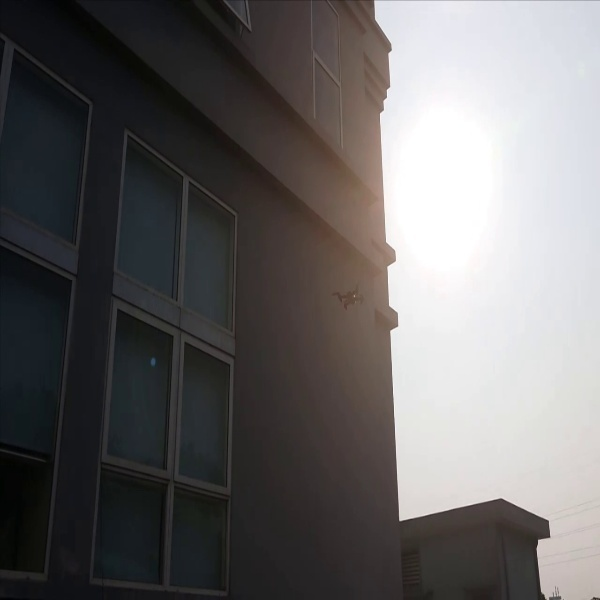drone: (324, 278, 367, 315)
